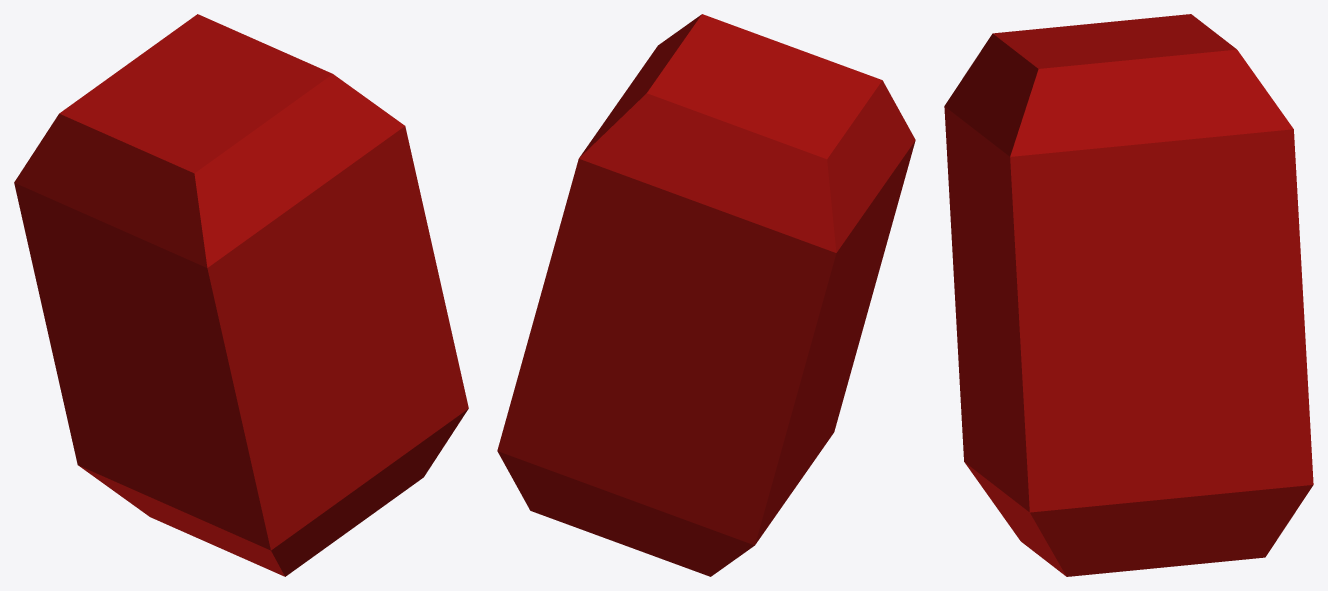
File: town_jewel0010.obj
3 renders of one model, left to right at view 1: azimuth 30°, elevation 25°; view 2: azimuth 150°, elevation 25°; view 3: azimuth 270°, elevation 25°, orthographic. The views are drawn at different scales.
Visible parts, largest first — view 1: RedJewel; view 2: RedJewel; view 3: RedJewel.
Part boxes in pixels (x1=…): RedJewel: x1=14, y1=14, x2=468, y2=576; RedJewel: x1=497, y1=14, x2=915, y2=576; RedJewel: x1=944, y1=14, x2=1313, y2=576.
Bounding box in the file's own units: 0.9434 × 1.21 × 0.81.
